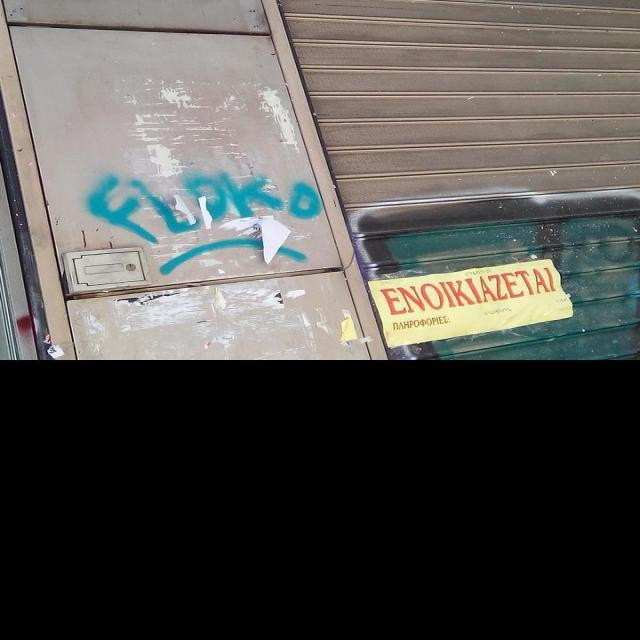nonspitting: (82, 169, 322, 275)
